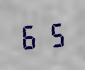five: (42, 20, 64, 48)
six: (19, 21, 41, 50)
